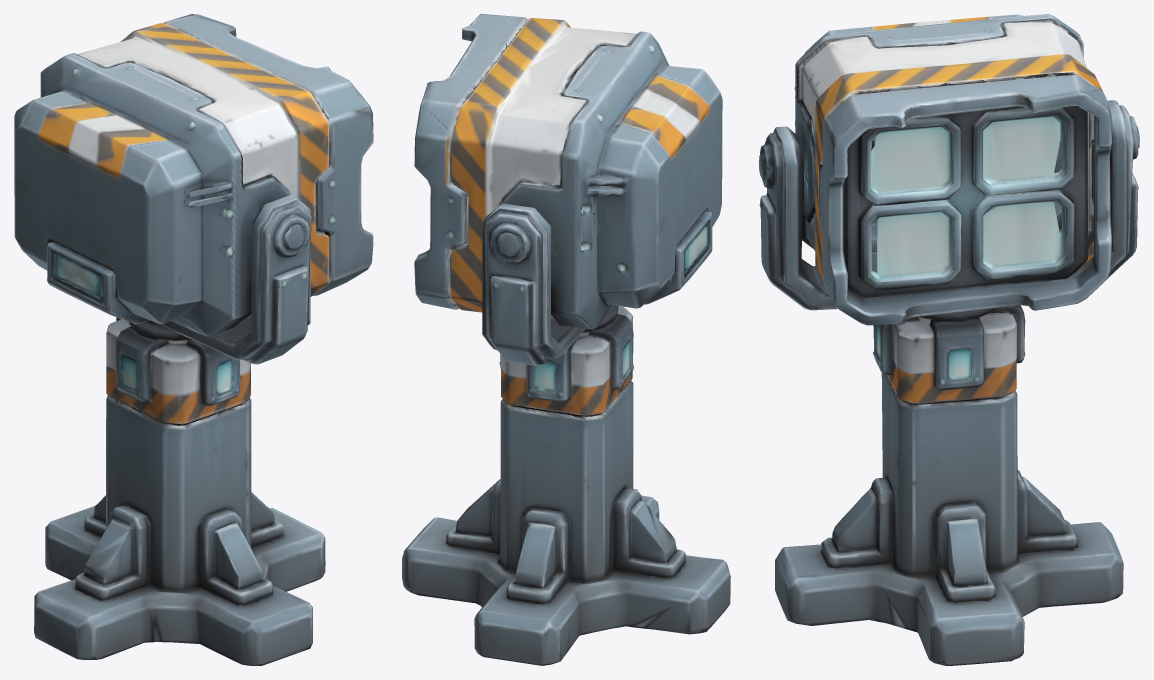
3 renders of one model, left to right at view 1: azimuth 30°, elevation 25°; view 2: azimuth 150°, elevation 25°; view 3: azimuth 270°, elevation 25°, orthographic. The views are drawn at different scales.
Parts seen in each view (by area): view 1: repaired; view 2: repaired; view 3: repaired.
Part boxes in pixels (bbox=[...]): repaired: bbox=[14, 14, 373, 665]; repaired: bbox=[402, 14, 730, 665]; repaired: bbox=[759, 14, 1139, 665].
Size of the model in its own units: 0.5645 by 1 by 0.626.
1 material, 1 textured.
